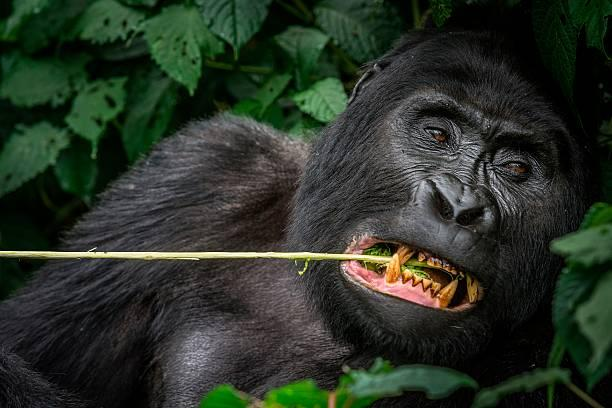goriile_montagne: (230, 20, 566, 394)
